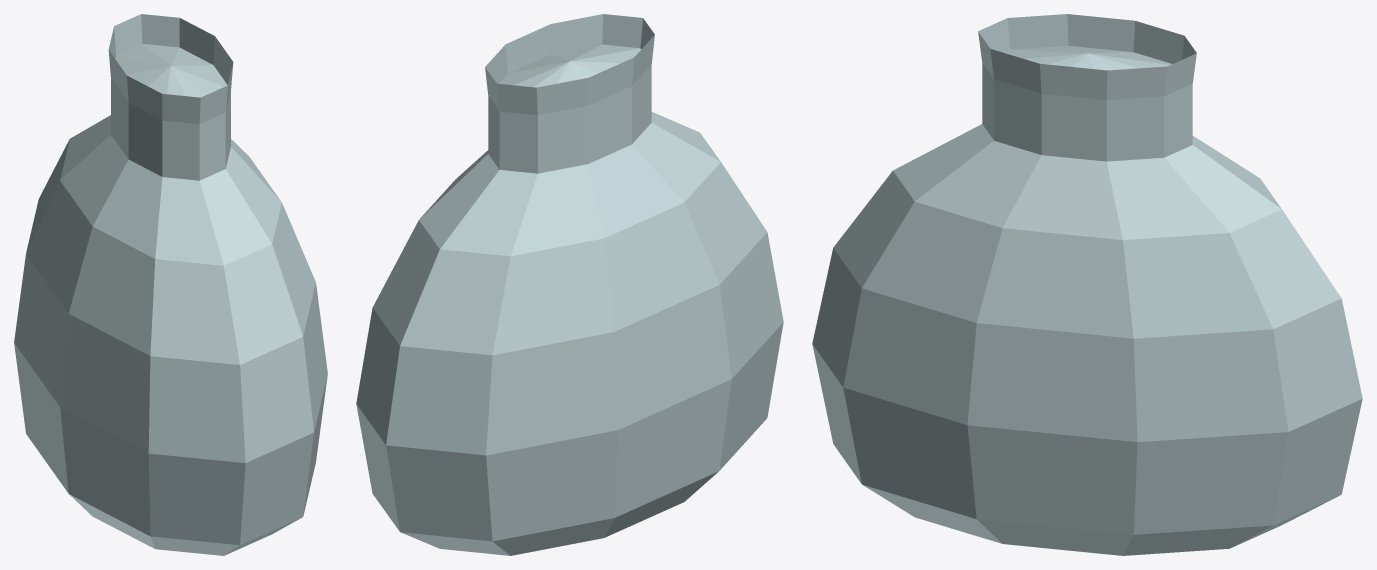
The model's file is flask.glb.
3 views of the same model, side by side, from view 1: azimuth 30°, elevation 25°; view 2: azimuth 150°, elevation 25°; view 3: azimuth 270°, elevation 25° (orthographic). The views are drawn at different scales.
Parts seen in each view (by area): view 1: Sphere; view 2: Sphere; view 3: Sphere.
Part boxes in pixels (bbox=[...]): Sphere: bbox=[14, 14, 327, 555]; Sphere: bbox=[356, 14, 783, 555]; Sphere: bbox=[812, 14, 1362, 555].
Bounding box in the file's own units: 0.2378 × 0.3751 × 0.3893.
